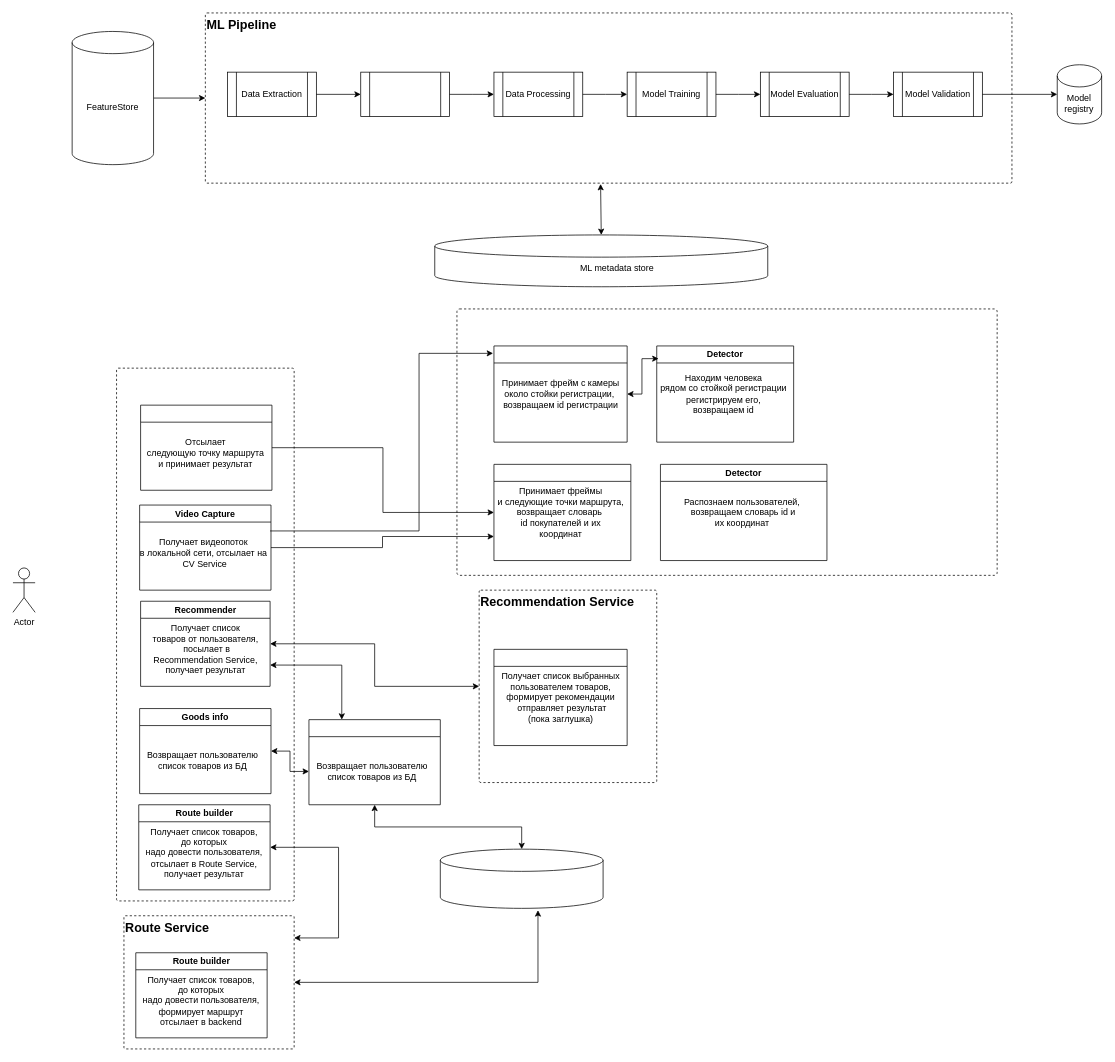
This 1115x1062 diagram has some shape labels left out. The box of each missing label's shape, as (x1, y1, x2, y2) in pixels:
Backend: (116, 367, 294, 901)
CV: (140, 404, 272, 490)
CV Handler: (493, 464, 631, 561)
CV Registator: (493, 345, 627, 442)
CV Service: (456, 308, 997, 575)
Data Validation: (360, 71, 450, 117)
Goods service: (308, 719, 440, 805)
Recommendation predictor: (493, 649, 627, 746)
БД товаров и их местоположения: (440, 848, 603, 908)
